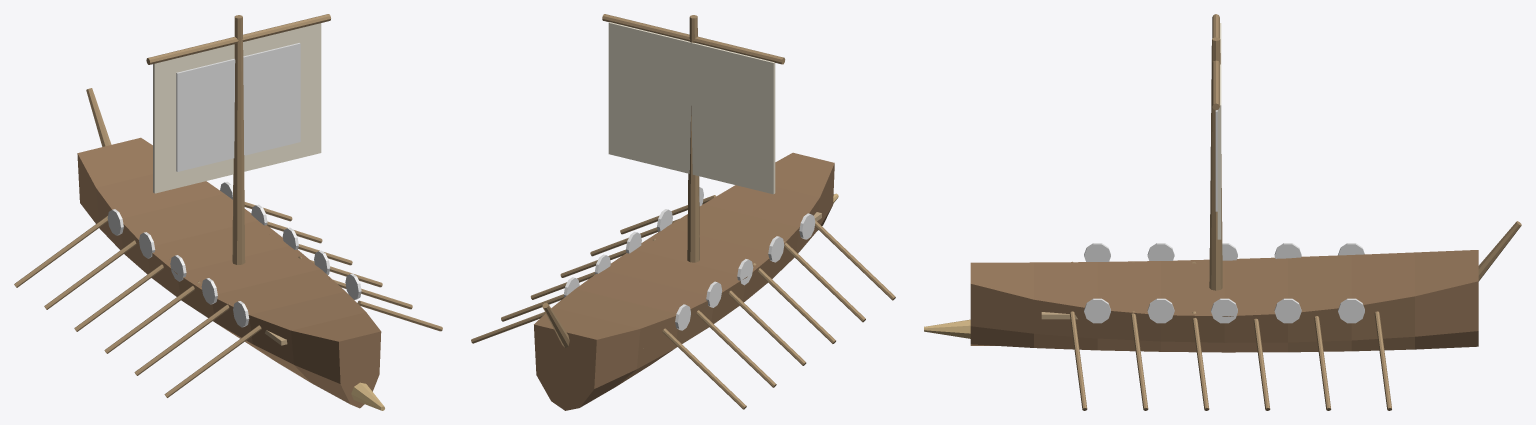
Rendered from civ_unit_galley.glb.
The picture shows the model from 3 angles, left to right: view 1: azimuth 30°, elevation 25°; view 2: azimuth 150°, elevation 25°; view 3: azimuth 270°, elevation 25°; orthographic projection. The views are drawn at different scales.
Parts seen in each view (by area): view 1: civ_unit_galley; view 2: civ_unit_galley; view 3: civ_unit_galley.
Part boxes in pixels (left/top/right/bottom): civ_unit_galley: left=14, top=14, right=442, bottom=410; civ_unit_galley: left=471, top=14, right=895, bottom=410; civ_unit_galley: left=924, top=14, right=1521, bottom=410.
Bounding box in the file's own units: 3.83 × 4 × 7.06.
